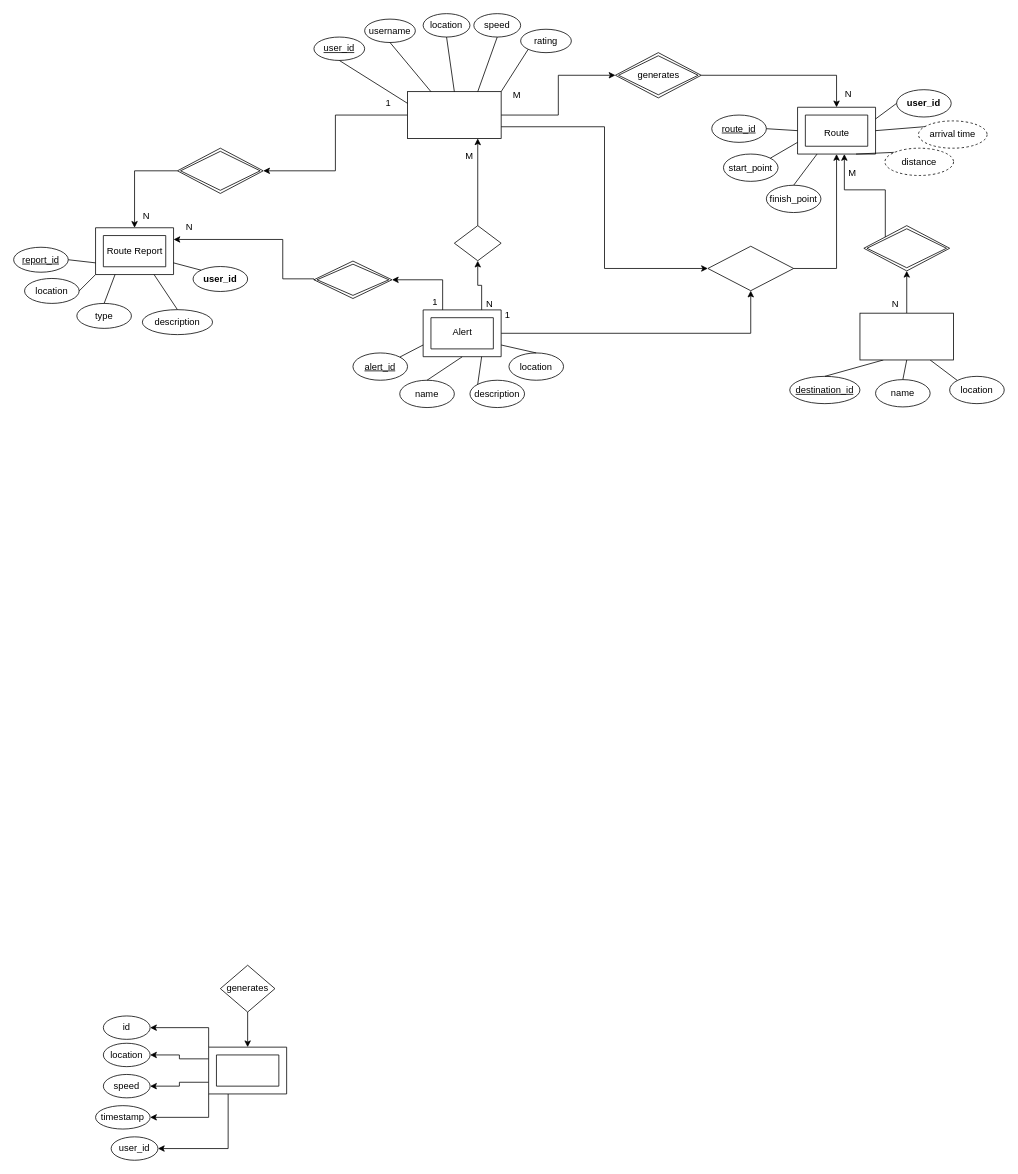
Image size: 1018x1174. Some labels were removed from this diagram. The shapes that lost their labels are listed below. From the top down, each one's box as (x1, y1, x2, y2) in pixels, then its label:
(407, 91, 501, 138): User
(177, 147, 263, 193): reports
(454, 225, 501, 261): visible to
(863, 225, 950, 271): indicates
(313, 260, 392, 299): collects
(707, 245, 794, 291): Affects
(859, 312, 954, 360): Destination
(208, 1046, 287, 1094): User Data
